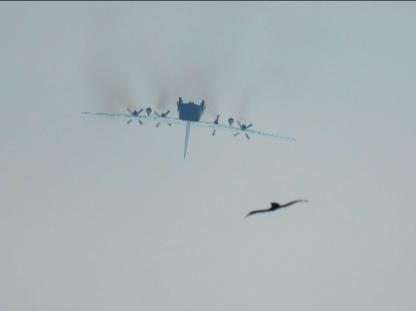Be200: (80, 97, 296, 161)
